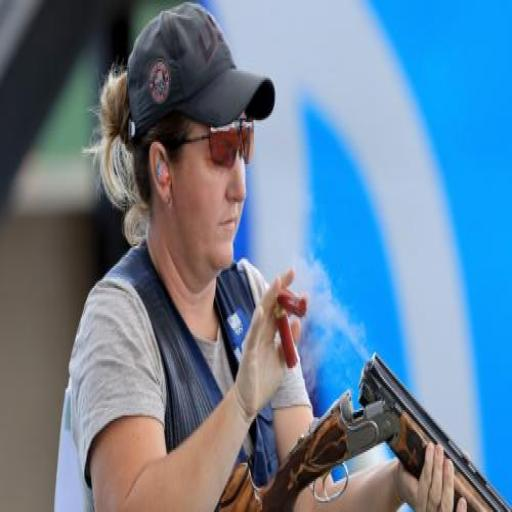shooting: (65, 2, 467, 510)
